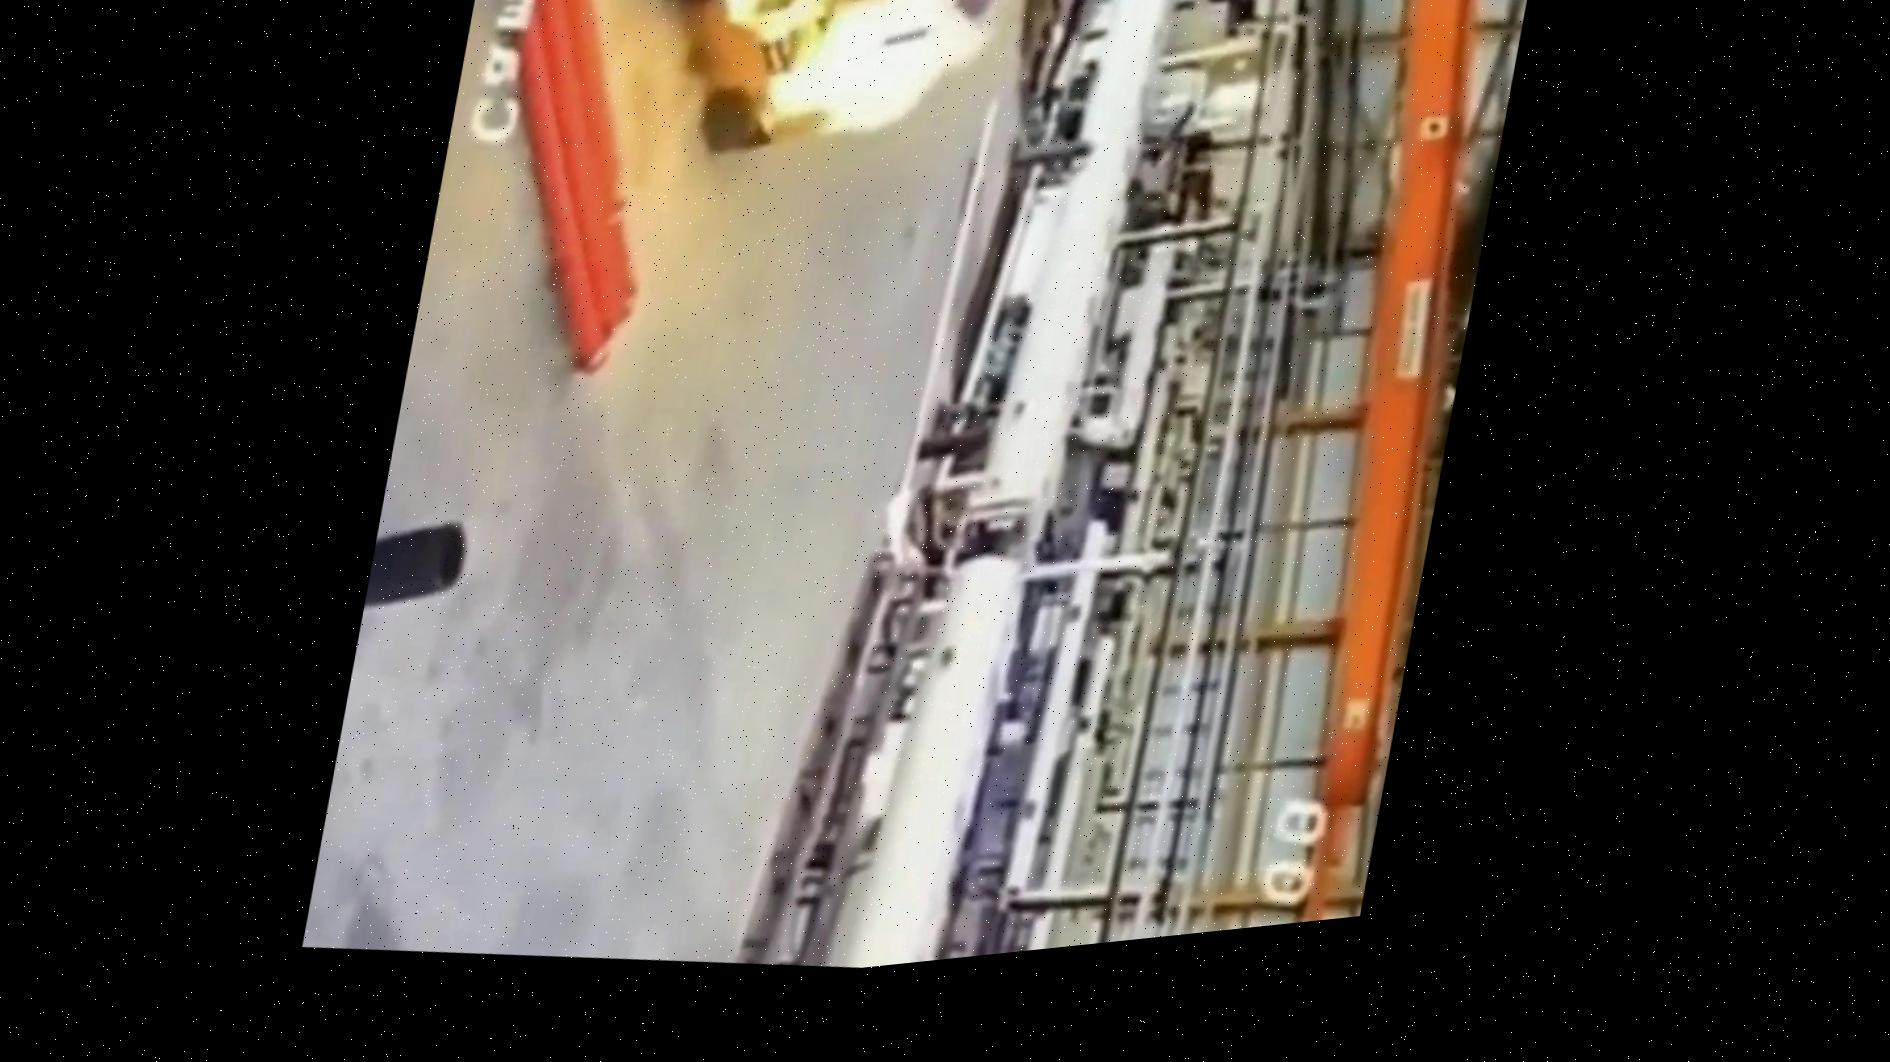fire: (598, 1, 1122, 256)
